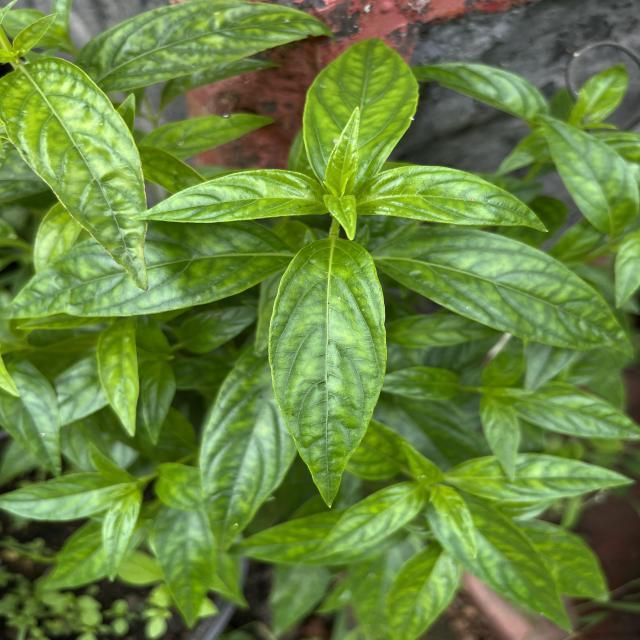Andrographis paniculata: (0, 55, 150, 294), (376, 226, 638, 358), (265, 235, 388, 510), (75, 0, 336, 93), (424, 488, 577, 635), (198, 334, 296, 556), (302, 35, 421, 184), (356, 164, 548, 234), (534, 112, 640, 236), (127, 167, 330, 225), (306, 480, 428, 562), (447, 451, 637, 502), (153, 508, 214, 630), (0, 470, 118, 522), (95, 318, 142, 438)
